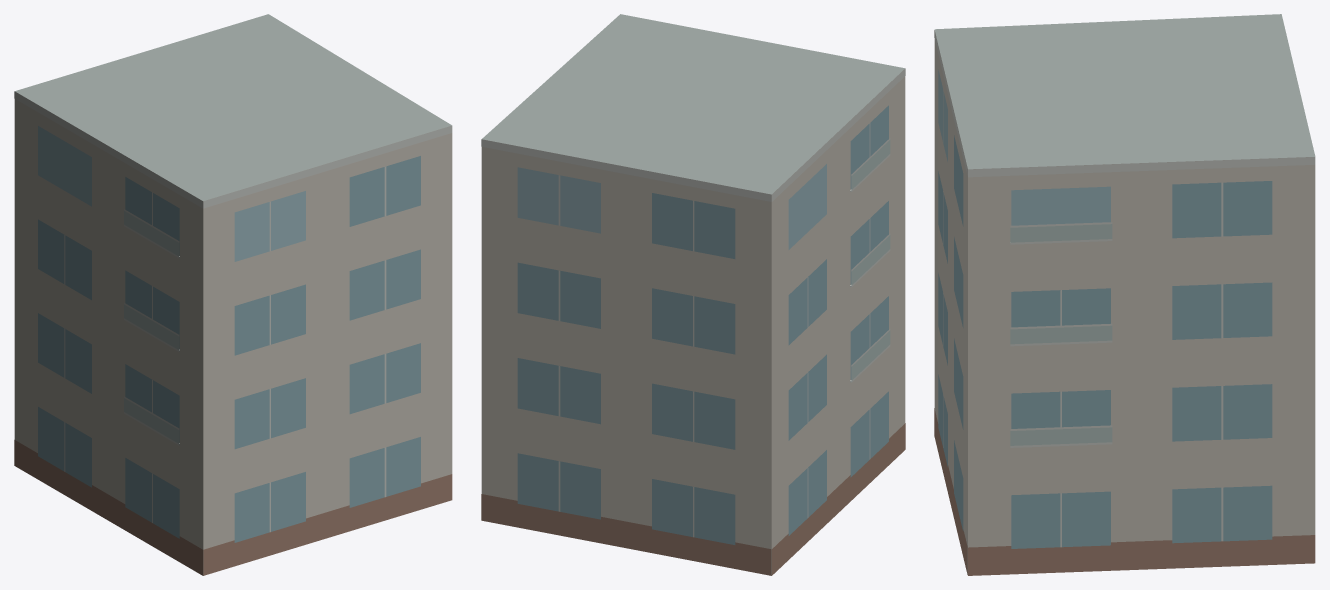
File: survey-upis-32654929.glb
3 views of the same model, side by side, from view 1: azimuth 30°, elevation 25°; view 2: azimuth 150°, elevation 25°; view 3: azimuth 270°, elevation 25° (orthographic). The views are drawn at different scales.
Visible parts, largest first — view 1: survey-upis-32654929.tmp; view 2: survey-upis-32654929.tmp; view 3: survey-upis-32654929.tmp.
Boxes of the visible parts, bbox=[...] form: survey-upis-32654929.tmp: bbox=[14, 14, 452, 575]; survey-upis-32654929.tmp: bbox=[481, 14, 905, 575]; survey-upis-32654929.tmp: bbox=[934, 14, 1315, 575].
Size of the model in its own units: 10.13 by 12.35 by 10.5.
